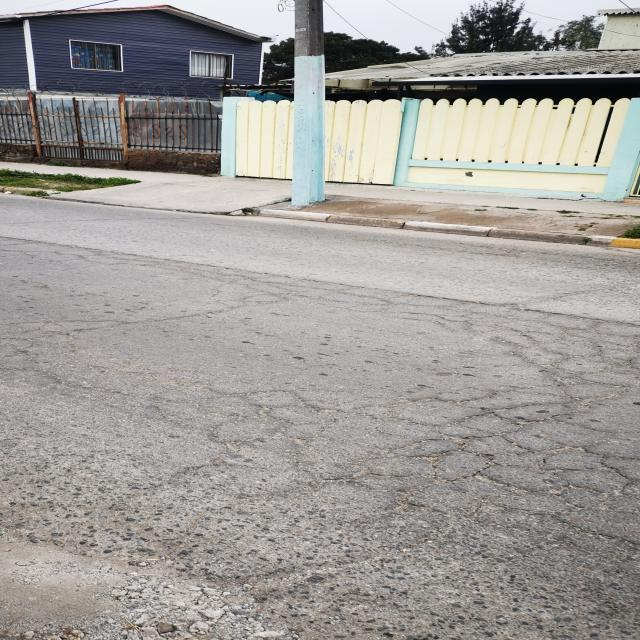GRIETA: (122, 308, 223, 326)
PIEL DE COCODRILO: (0, 281, 639, 608), (0, 232, 334, 311)
